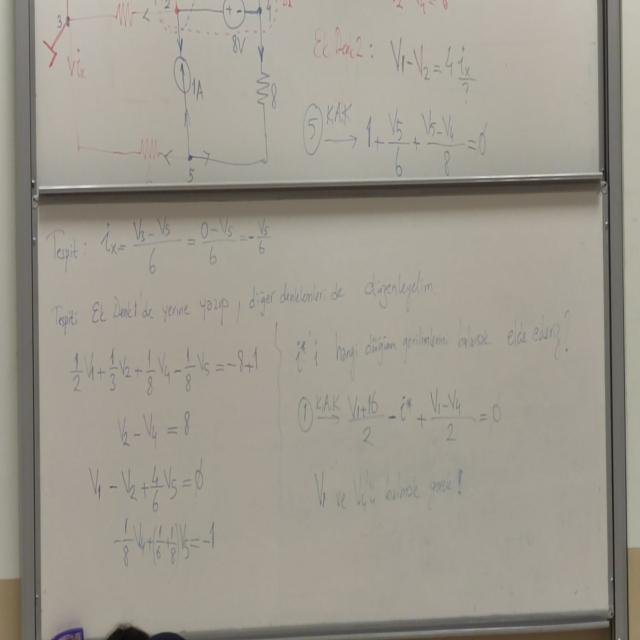image: (41, 0, 285, 179)
math: (95, 211, 277, 280), (67, 337, 263, 398), (339, 384, 508, 447), (361, 102, 495, 178), (384, 28, 482, 102), (88, 458, 208, 515), (113, 517, 218, 570), (112, 406, 194, 452)
text: (291, 310, 573, 379), (84, 274, 442, 326), (310, 463, 469, 524), (311, 23, 374, 80), (47, 226, 84, 271), (46, 294, 85, 331)
